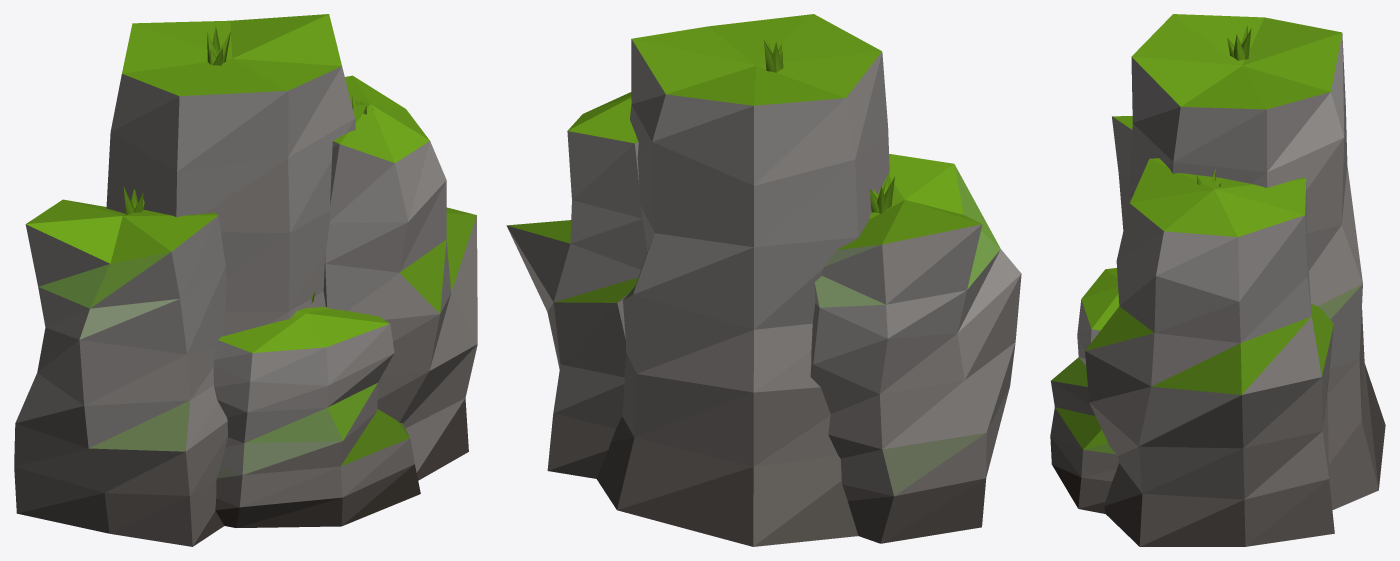
Rendered from batu_cliff_limestone_810939.glb.
The picture shows the model from 3 angles, left to right: view 1: azimuth 30°, elevation 25°; view 2: azimuth 150°, elevation 25°; view 3: azimuth 270°, elevation 25°; orthographic projection. The views are drawn at different scales.
Parts seen in each view (by area): view 1: Tebing_Sungai_Curam; view 2: Tebing_Sungai_Curam; view 3: Tebing_Sungai_Curam.
Part boxes in pixels (x1,y1,x2,y2): Tebing_Sungai_Curam: (14,14,477,546); Tebing_Sungai_Curam: (506,14,1021,546); Tebing_Sungai_Curam: (1050,14,1385,546).
Bounding box in the file's own units: 7.57 × 6.93 × 4.8.
